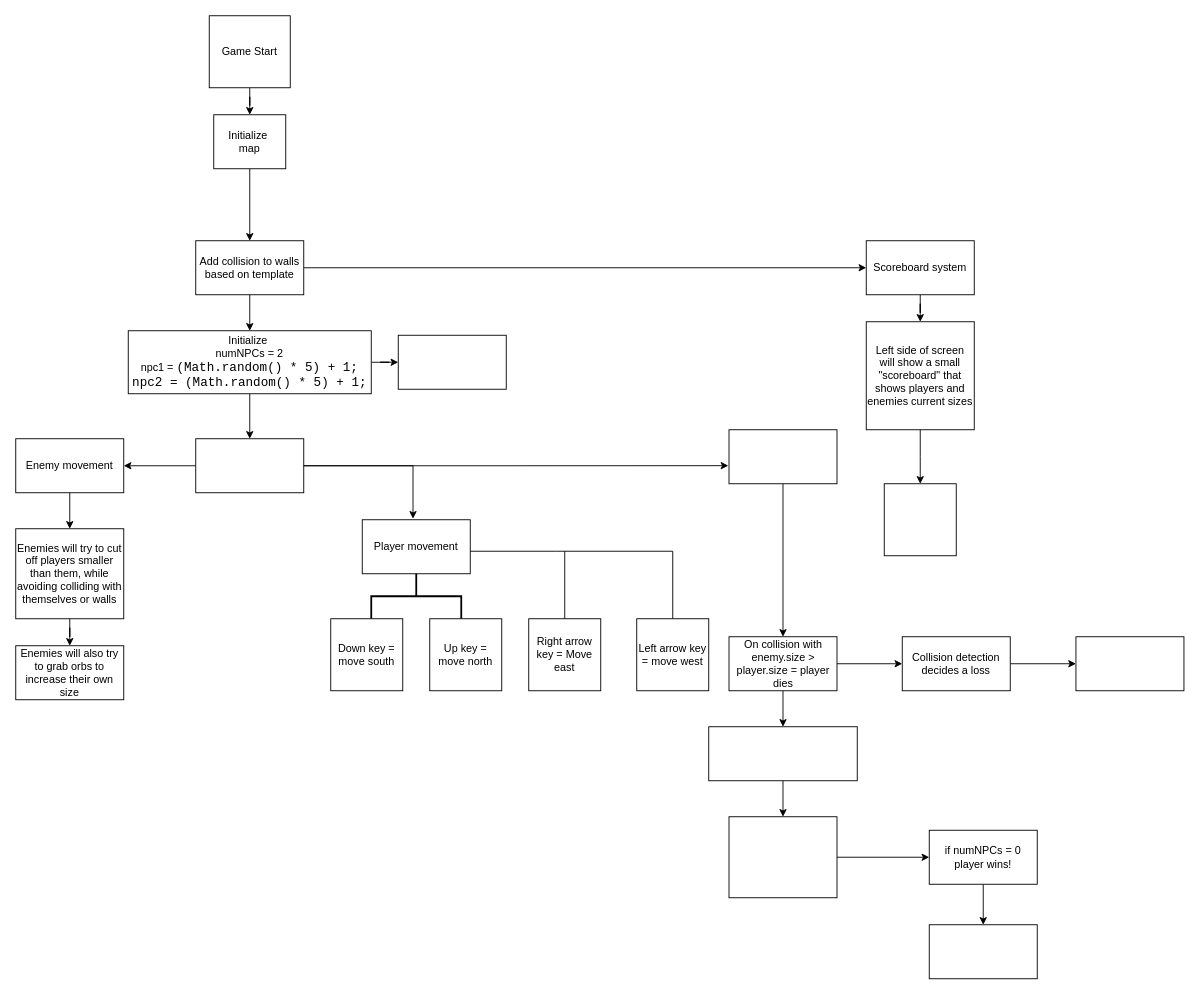
Some shapes in this 1200 by 995 pixel diagram are drawn without their labels. The centre of each missing label's shape, as x and y in pixels:
"Collision system" goes at (x=782, y=456).
"Initialize player = 1; player size = 1;" goes at (x=249, y=465).
"Loss screen + Return to title" goes at (x=1129, y=663).
"NPC Enemies are generated with randomized size < 5" goes at (x=451, y=361).
"On player collision with enemy size < player size = enemy dies numNPCs =- 1" goes at (x=782, y=857).
"On player or enemy collision with orb, size += 1" goes at (x=782, y=753).
"Timer in seconds" goes at (x=919, y=519).
"Victory screen + Return to title" goes at (x=982, y=951).
